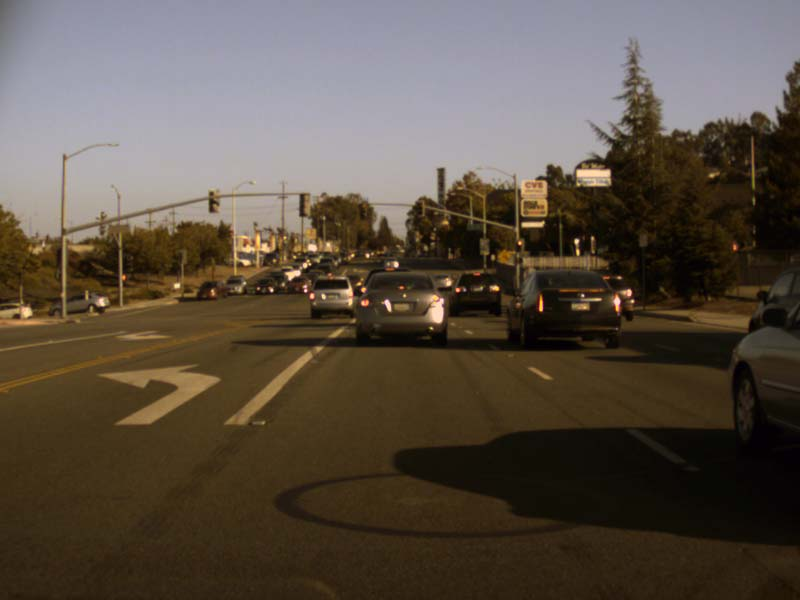Red: (515, 240, 524, 253)
